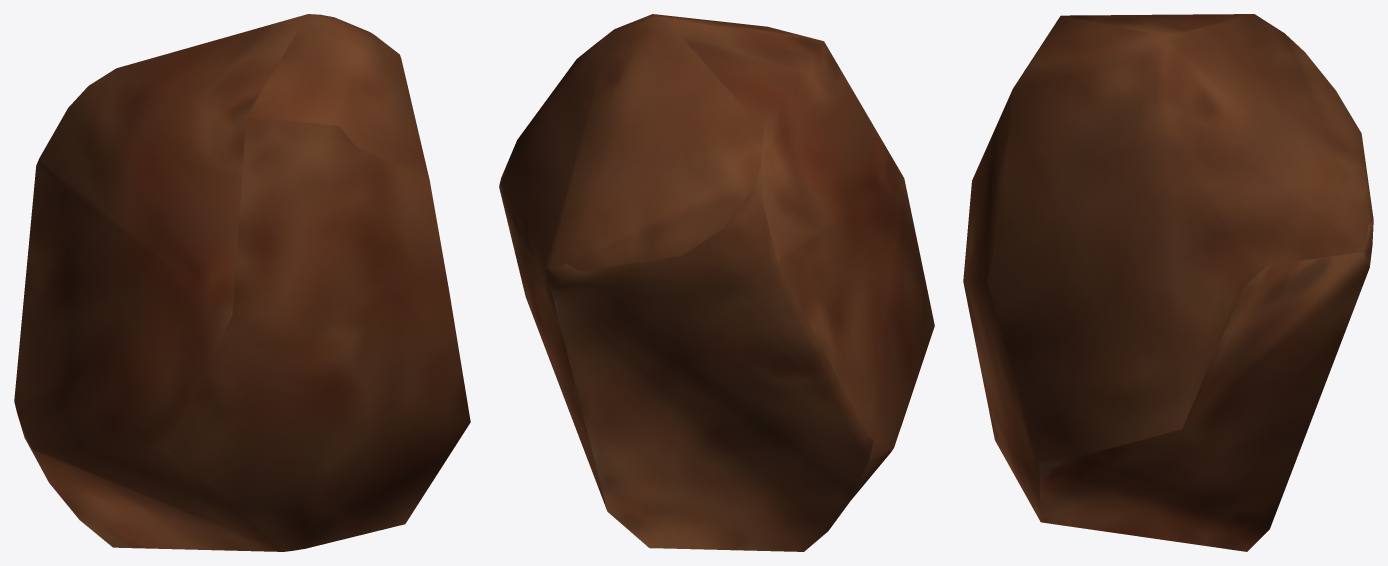
The model's file is projectile_stone.fbx.
The picture shows the model from 3 angles, left to right: view 1: azimuth 30°, elevation 25°; view 2: azimuth 150°, elevation 25°; view 3: azimuth 270°, elevation 25°; orthographic projection. The views are drawn at different scales.
Parts seen in each view (by area): view 1: projectile_stone; view 2: projectile_stone; view 3: projectile_stone.
Boxes of the visible parts, x1,y1,x2,y2 form: projectile_stone: [14, 14, 470, 551]; projectile_stone: [499, 14, 934, 551]; projectile_stone: [963, 14, 1373, 551].
Size of the model in its own units: 40.25 by 50.82 by 35.88.
